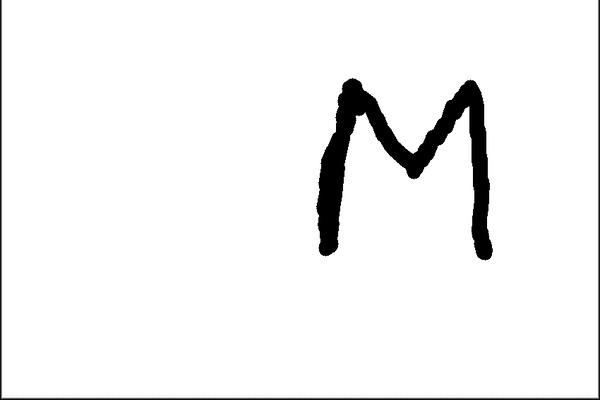M: (310, 73, 498, 261)
